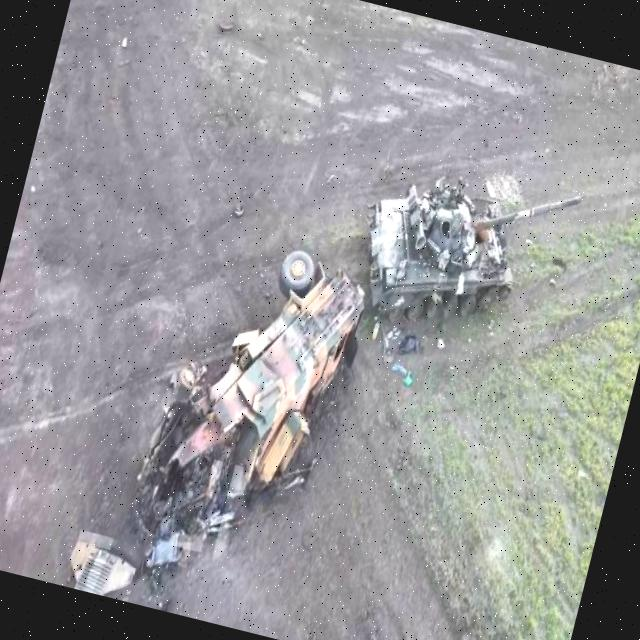Destroyed: (108, 221, 380, 597)
MBT: (344, 142, 589, 369)
